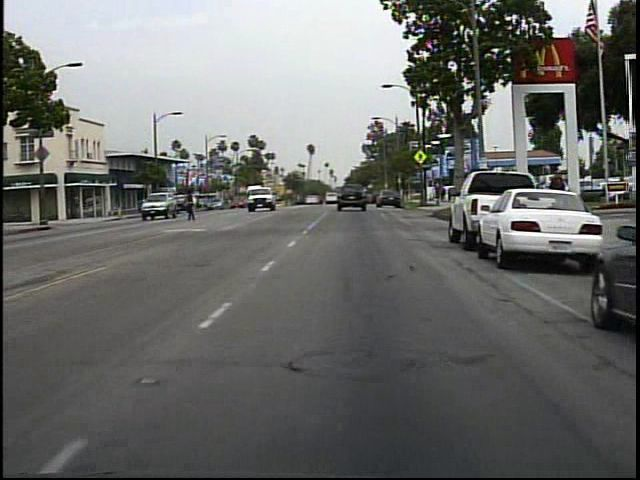person: (543, 168, 570, 226), (182, 183, 203, 225)
